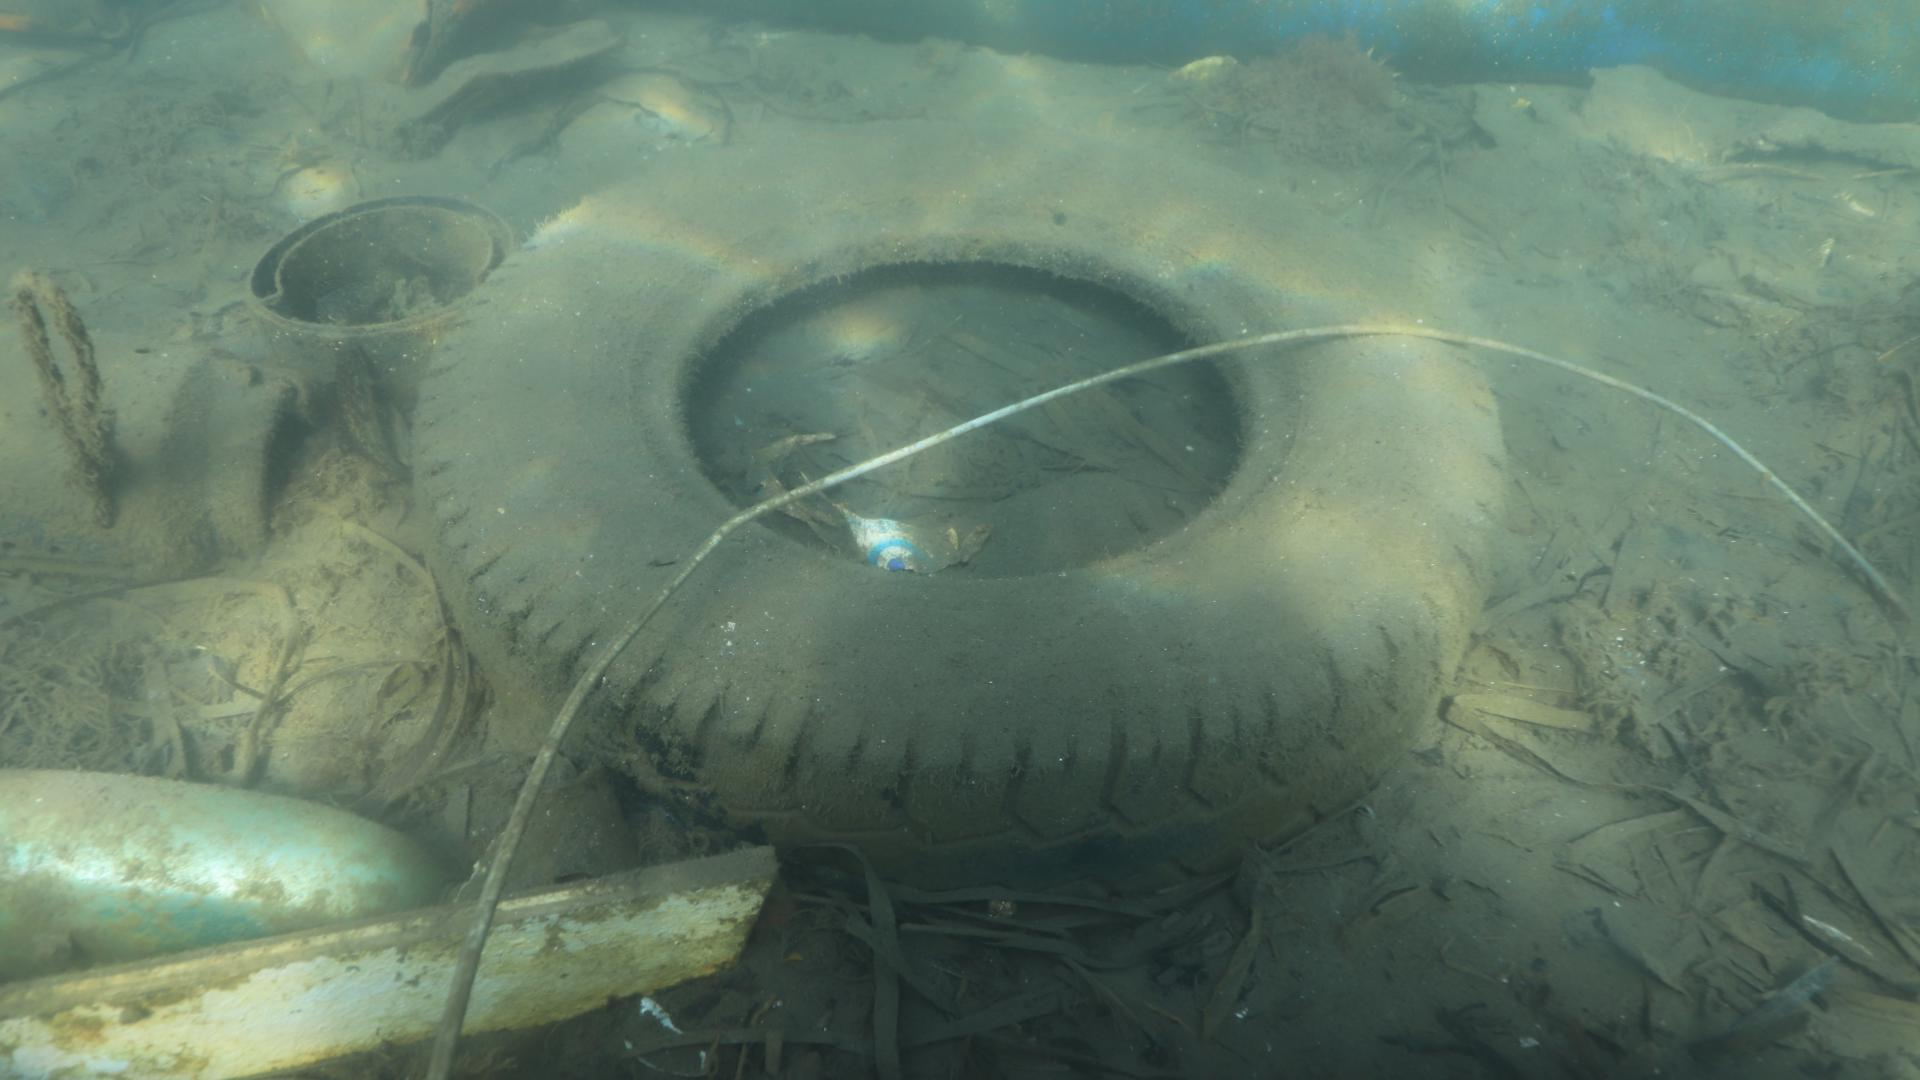bundle of ropes: (7, 264, 115, 527)
tire: (411, 116, 1510, 891)
